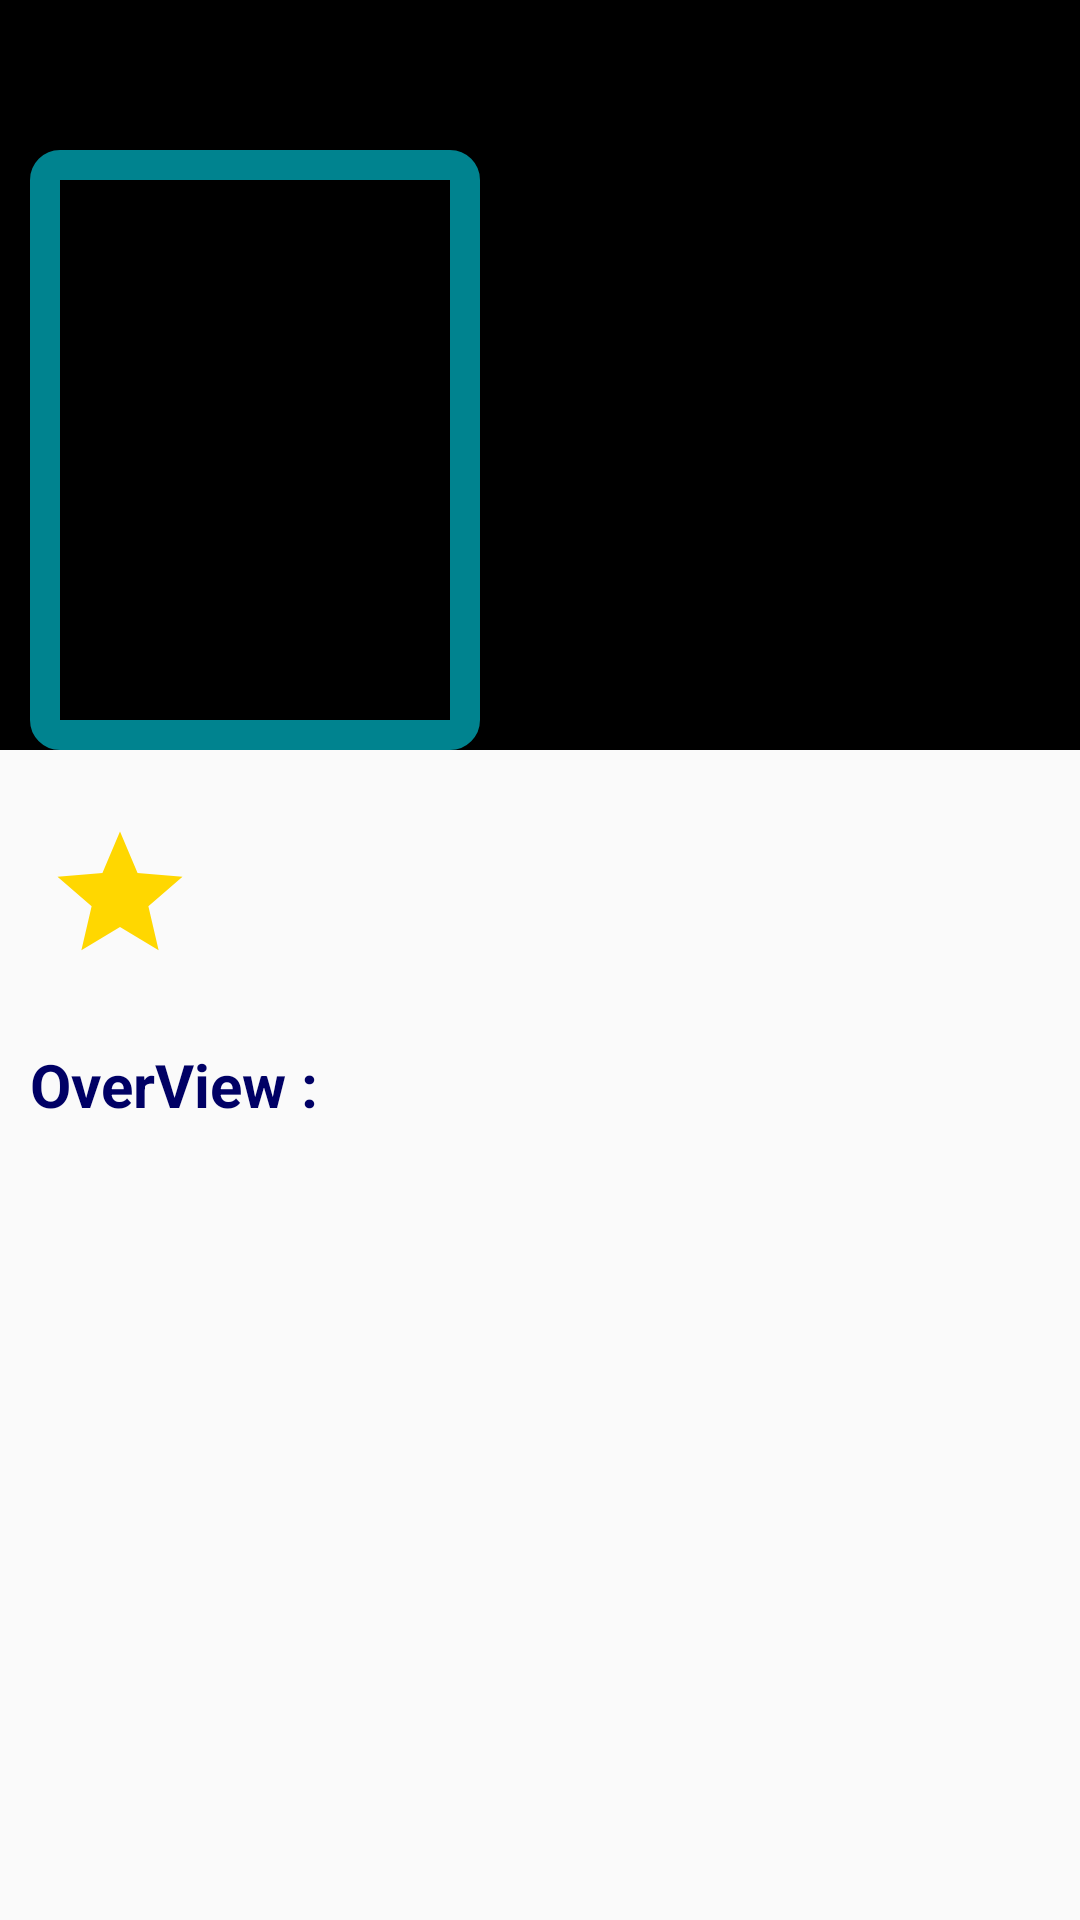

Locate icon controls on the screen. Image size 1080*1920, boxes as (x1, y1, x2, y2).
star: (58, 832, 182, 950)
